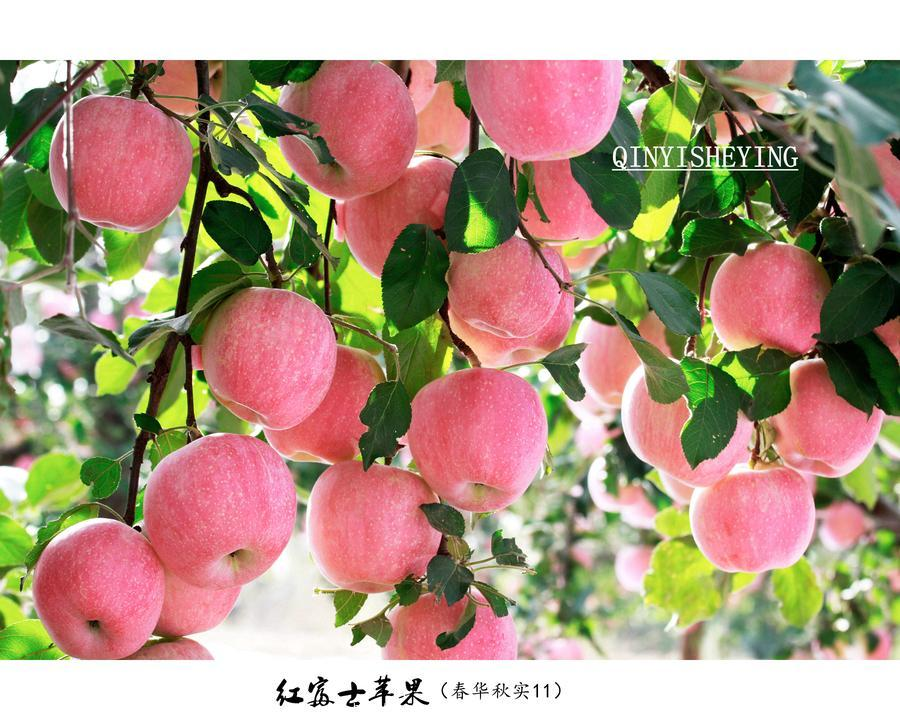apple: (29, 430, 296, 655), (197, 287, 343, 424), (33, 517, 164, 663), (55, 93, 192, 230), (713, 240, 827, 355)
